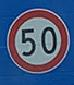50 Km Hiz Siniri: (8, 6, 71, 73)
